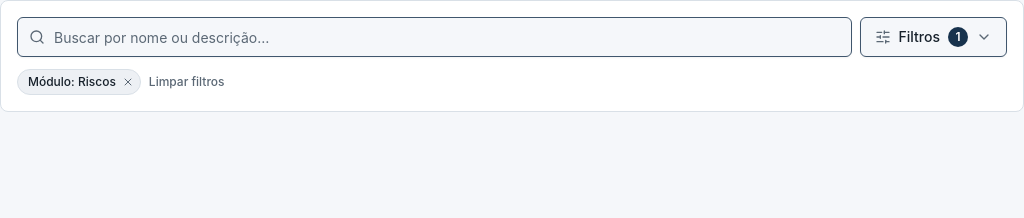
Test case: RoleFilterBar — the filters behind the disclosure › states FR-005a beside the module control once a module narrows the list
Click the button "Filtros 1".
click(933, 37)  # box [860,17,1007,57]
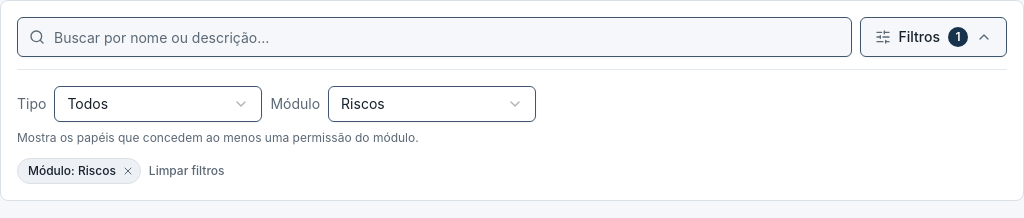
Expected: the text "Mostra os papéis que concedem ao menos uma permissão do módulo." is shown, [17,130,419,145]
